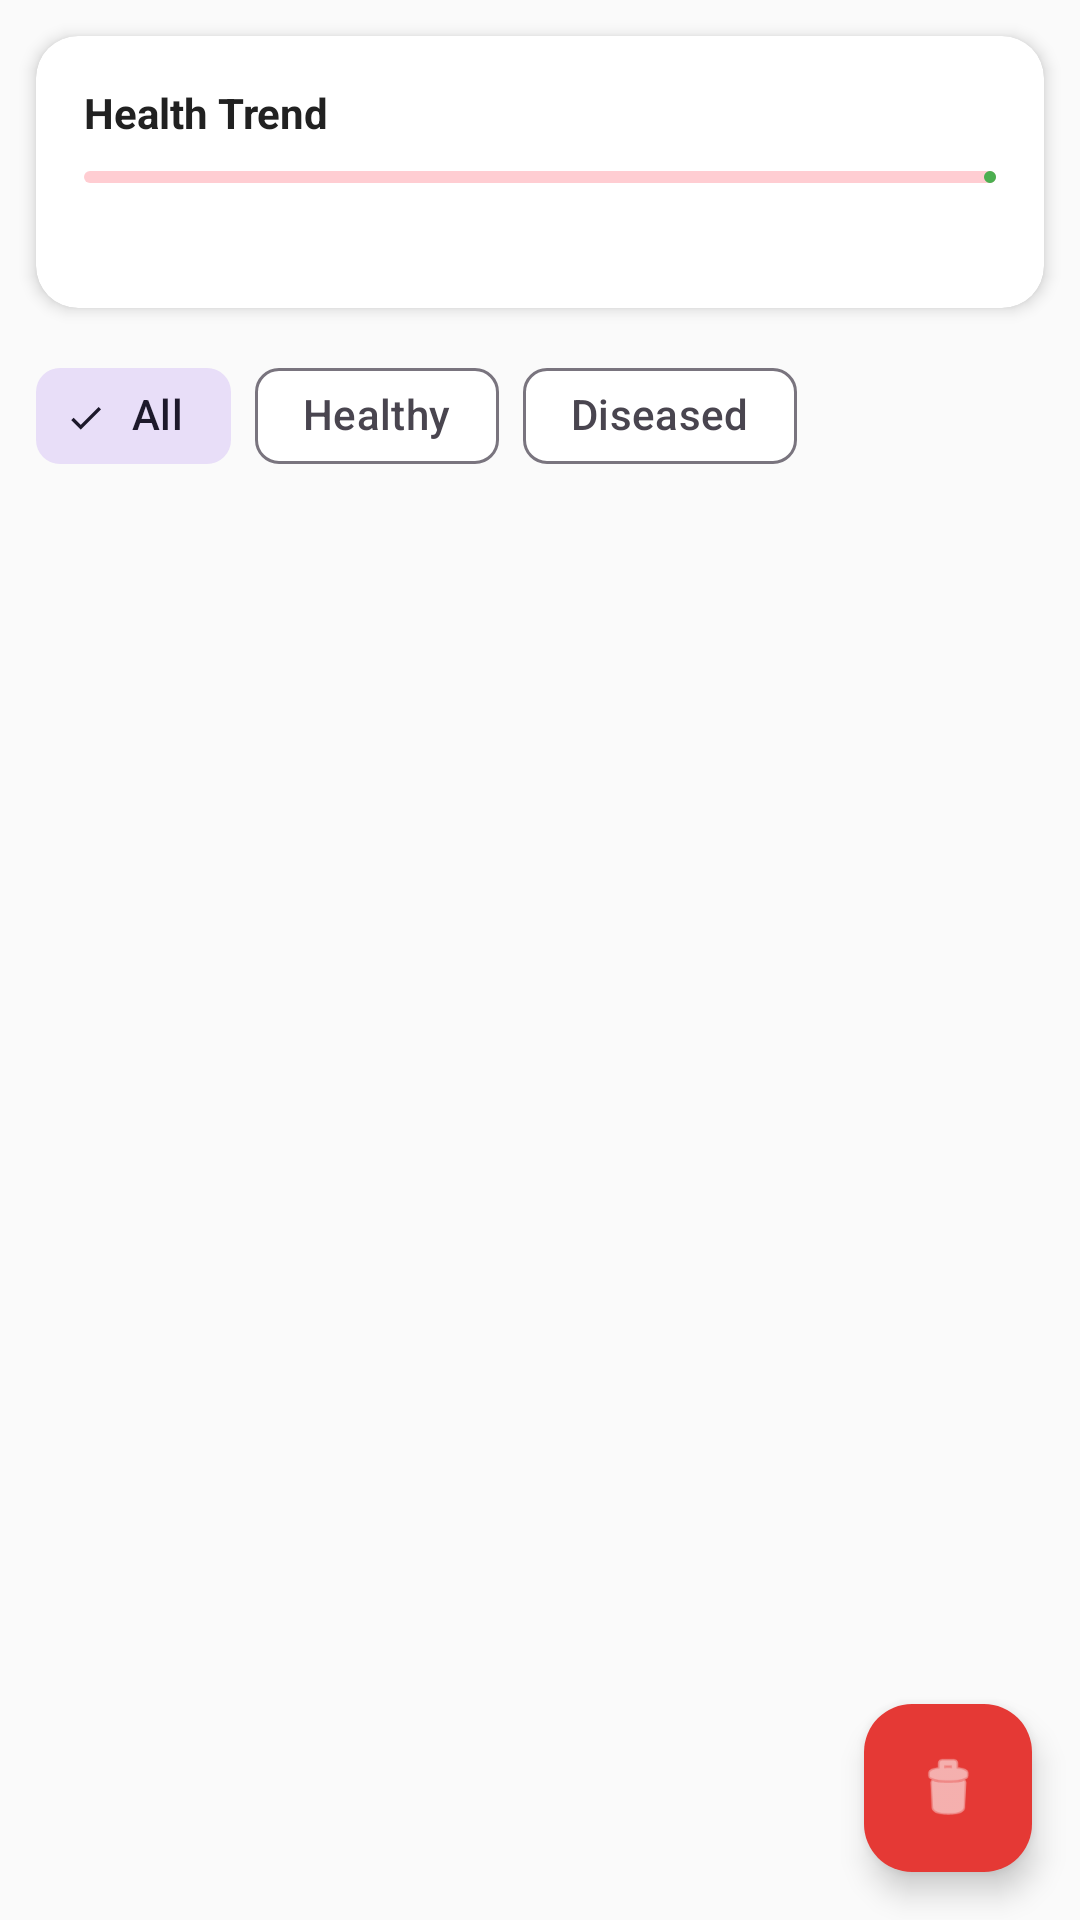

Where icons sit on this 1080 x 1920 app screen, as [left=x1, top=y1, right=x2, bottom=y2]:
Clear All: [left=864, top=1704, right=1032, bottom=1872]
